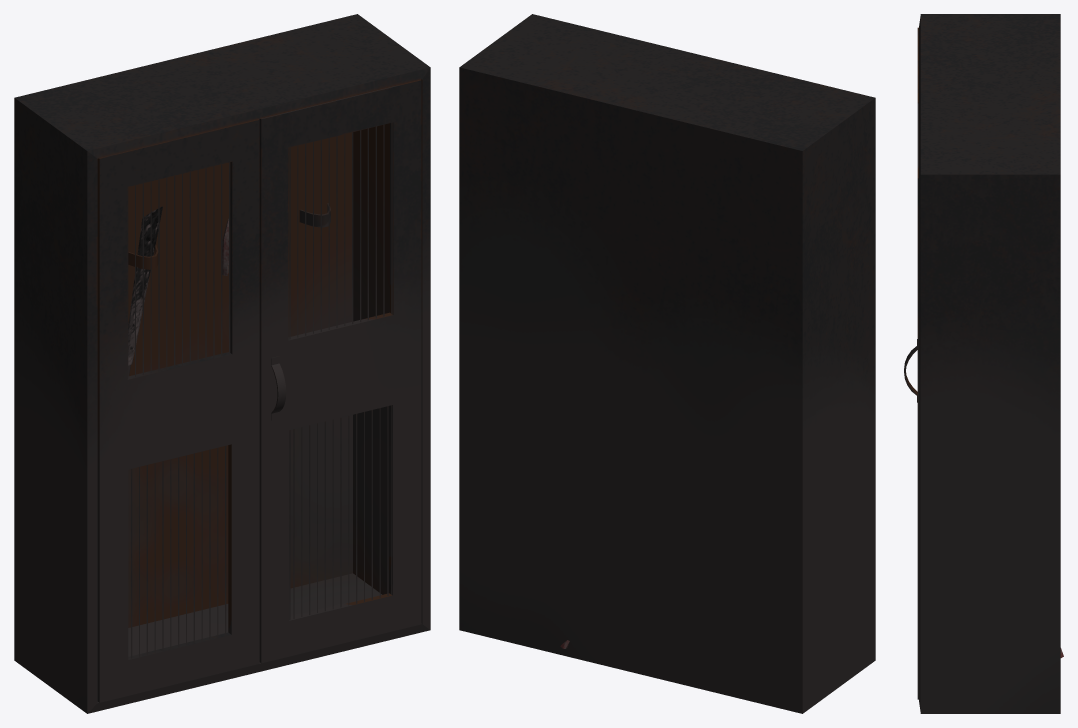
Rendered from M_WeaponCabinet.fbx.
The picture shows the model from 3 angles, left to right: view 1: azimuth 30°, elevation 25°; view 2: azimuth 150°, elevation 25°; view 3: azimuth 270°, elevation 25°; orthographic projection. The views are drawn at different scales.
Visible parts, largest first — view 1: weaponcabinet_GEO, weapons_GEO; view 2: weaponcabinet_GEO; view 3: weaponcabinet_GEO.
Boxes of the visible parts, x1=… form: weaponcabinet_GEO: x1=14, y1=14, x2=430, y2=713; weapons_GEO: x1=128, y1=206, x2=228, y2=376; weaponcabinet_GEO: x1=459, y1=14, x2=875, y2=713; weaponcabinet_GEO: x1=904, y1=14, x2=1060, y2=713.
Size of the model in its own units: 1.38 by 2.16 by 0.579.
Materials: 3 (3 with a texture image).
